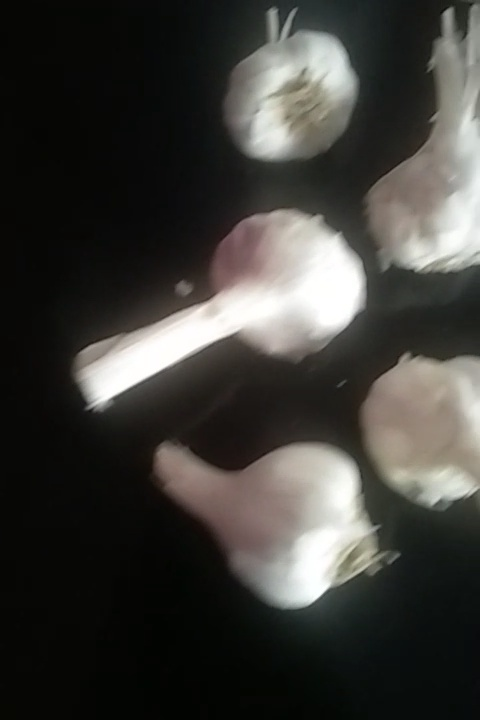garlic: (71, 220, 353, 413), (146, 430, 392, 614), (369, 28, 480, 272), (336, 361, 480, 511), (229, 29, 358, 176)
